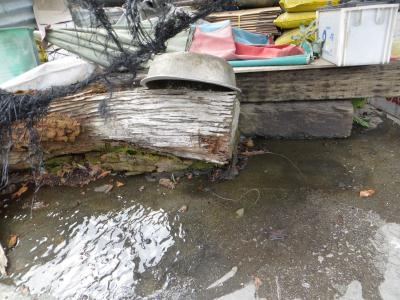bowl: (137, 50, 242, 96)
box: (312, 1, 399, 68)
plastic_bag: (187, 20, 280, 55)
